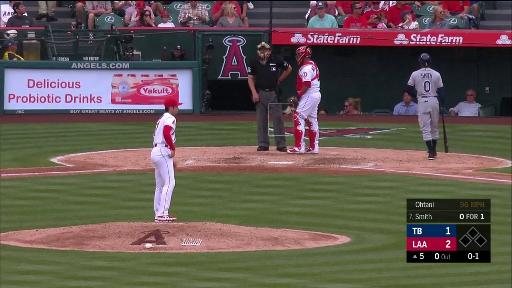pitcher: (152, 99, 182, 223)
